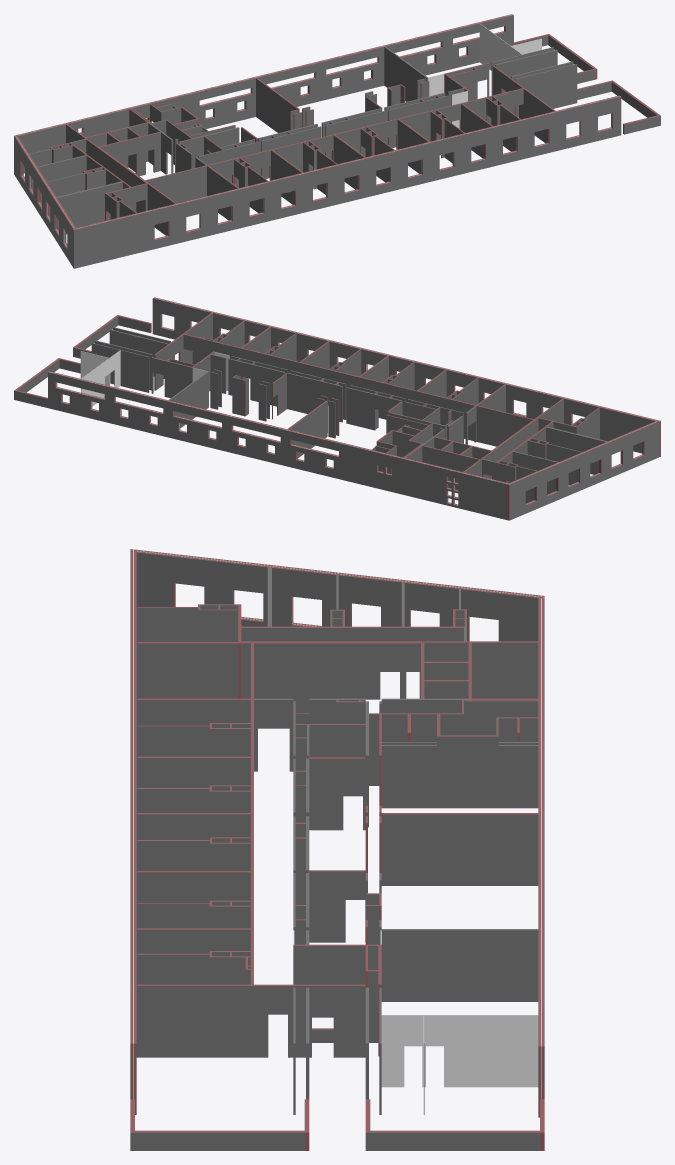
The model's file is Building Model - Excavation and Trench - updated_1kn71nZ$z5OvtVVlfMoRRc-Piso 3_IfcWallStandardCase.dae.
3 renders of one model, top to bottom at view 1: azimuth 30°, elevation 25°; view 2: azimuth 150°, elevation 25°; view 3: azimuth 270°, elevation 25°, orthographic. The views are drawn at different scales.
Parts seen in each view (by area): view 1: 0jFAAIDIf1MvwbwQYdFy94, 0jFAAIDIf1MvwbwQYdFy9A, 08Enbf8kXAKRZlJEf_0Djg, 08Enbf8kXAKRZlJEf_0DkM, 0jFAAIDIf1MvwbwQYdFy95, 08Enbf8kXAKRZlJEf_0Dj7, 08Enbf8kXAKRZlJEf_0DlI, 08Enbf8kXAKRZlJEf_0DlE, 08Enbf8kXAKRZlJEf_0Dlf, 3OBvVqfBfDR8CraztUO$K9, 08Enbf8kXAKRZlJEf_0Dli, 2e0kZVHy15PupVzF9BmKmT (+25 smaller); view 2: 0jFAAIDIf1MvwbwQYdFy9A, 0jFAAIDIf1MvwbwQYdFy94, 0jFAAIDIf1MvwbwQYdFy95, 08Enbf8kXAKRZlJEf_0Djg, 08Enbf8kXAKRZlJEf_0DjA, 08Enbf8kXAKRZlJEf_0Div, 08Enbf8kXAKRZlJEf_0DjS, 08Enbf8kXAKRZlJEf_0DkM, 3OBvVqfBfDR8CraztUO$K9, 08Enbf8kXAKRZlJEf_0Dj1, 08Enbf8kXAKRZlJEf_0DlI, 08Enbf8kXAKRZlJEf_0Dlf (+33 smaller); view 3: 0jFAAIDIf1MvwbwQYdFy95, 3OBvVqfBfDR8CraztUO$K9, 08Enbf8kXAKRZlJEf_0Dli, 08Enbf8kXAKRZlJEf_0Dlf, 2e0kZVHy15PupVzF9BmKmT, 08Enbf8kXAKRZlJEf_0DlF, 08Enbf8kXAKRZlJEf_0DlD, 08Enbf8kXAKRZlJEf_0DkX, 08Enbf8kXAKRZlJEf_0DlN, 08Enbf8kXAKRZlJEf_0DlO, 0jFAAIDIf1MvwbwQYdFy94, 08Enbf8kXAKRZlJEf_0Djd (+33 smaller).
Boxes of the visible parts, <box> form: 0jFAAIDIf1MvwbwQYdFy94: <box>73,95,621,268</box>; 0jFAAIDIf1MvwbwQYdFy9A: <box>17,14,513,173</box>; 08Enbf8kXAKRZlJEf_0Djg: <box>145,88,523,203</box>; 08Enbf8kXAKRZlJEf_0DkM: <box>198,95,448,182</box>; 0jFAAIDIf1MvwbwQYdFy95: <box>14,135,75,266</box>; 08Enbf8kXAKRZlJEf_0Dj7: <box>514,64,577,117</box>; 08Enbf8kXAKRZlJEf_0DlI: <box>56,181,122,234</box>; 08Enbf8kXAKRZlJEf_0DlE: <box>97,132,160,176</box>; 08Enbf8kXAKRZlJEf_0Dlf: <box>256,78,299,133</box>; 3OBvVqfBfDR8CraztUO$K9: <box>492,65,555,143</box>; 08Enbf8kXAKRZlJEf_0Dli: <box>384,46,428,101</box>; 2e0kZVHy15PupVzF9BmKmT: <box>479,23,522,70</box>; 0jFAAIDIf1MvwbwQYdFy9A: <box>48,371,508,519</box>; 0jFAAIDIf1MvwbwQYdFy94: <box>152,297,660,457</box>; 0jFAAIDIf1MvwbwQYdFy95: <box>506,421,658,520</box>; 08Enbf8kXAKRZlJEf_0Djg: <box>183,334,533,446</box>; 08Enbf8kXAKRZlJEf_0DjA: <box>210,354,342,422</box>; 08Enbf8kXAKRZlJEf_0Div: <box>91,343,149,392</box>; 08Enbf8kXAKRZlJEf_0DjS: <box>346,387,401,430</box>; 08Enbf8kXAKRZlJEf_0DkM: <box>232,356,463,443</box>; 3OBvVqfBfDR8CraztUO$K9: <box>154,312,212,390</box>; 08Enbf8kXAKRZlJEf_0Dj1: <box>151,357,193,398</box>; 08Enbf8kXAKRZlJEf_0DlI: <box>546,426,607,474</box>; 08Enbf8kXAKRZlJEf_0Dlf: <box>287,400,327,458</box>; 0jFAAIDIf1MvwbwQYdFy95: <box>136,549,544,641</box>; 3OBvVqfBfDR8CraztUO$K9: <box>136,984,365,1057</box>; 08Enbf8kXAKRZlJEf_0Dli: <box>381,929,538,1001</box>; 08Enbf8kXAKRZlJEf_0Dlf: <box>381,813,538,885</box>; 2e0kZVHy15PupVzF9BmKmT: <box>381,1015,538,1087</box>; 08Enbf8kXAKRZlJEf_0DlF: <box>241,641,420,712</box>; 08Enbf8kXAKRZlJEf_0DlD: <box>136,642,238,698</box>; 08Enbf8kXAKRZlJEf_0DkX: <box>437,735,498,808</box>; 08Enbf8kXAKRZlJEf_0DlN: <box>241,626,464,699</box>; 08Enbf8kXAKRZlJEf_0DlO: <box>465,641,538,698</box>; 0jFAAIDIf1MvwbwQYdFy94: <box>130,549,136,1114</box>; 08Enbf8kXAKRZlJEf_0Djd: <box>370,1130,544,1150</box>.
Size of the model in its own units: 55.61 by 18.36 by 3.5.
